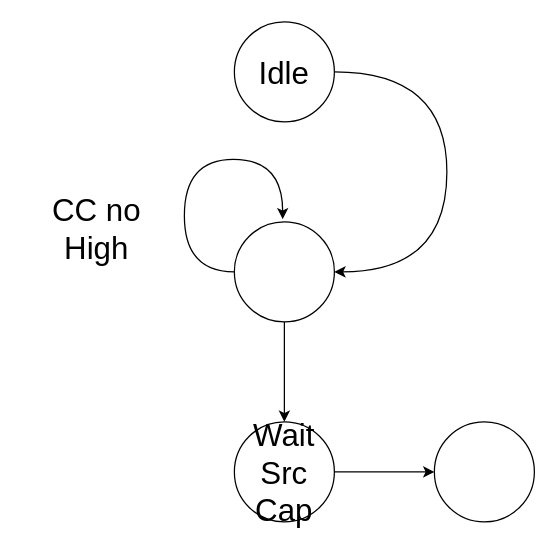
Some shapes in this 556 by 550 pixel diagram are drawn without their labels. The centre of each missing label's shape, as x and y in pixels:
"CC Line Check" belongs at (x=283, y=271).
"CRC Good" belongs at (x=483, y=471).
